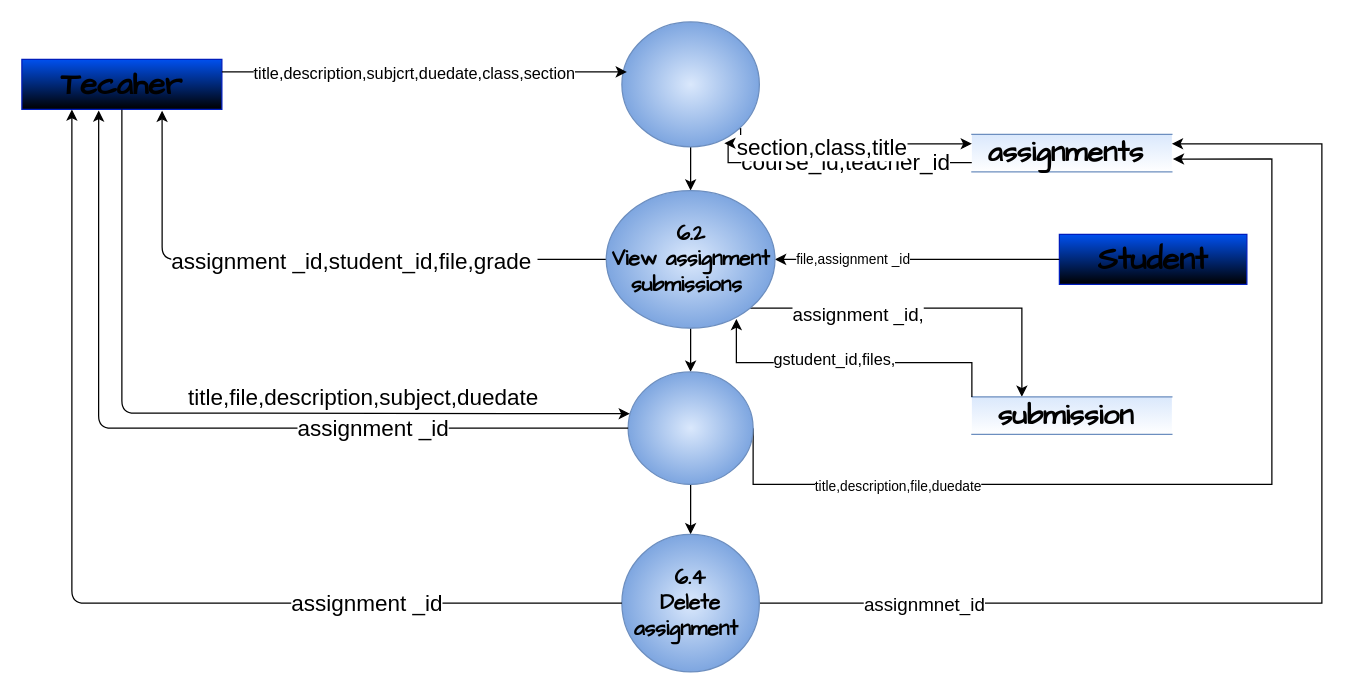
Image size: 1354x694. Some labels were removed from this diagram. Here are the shapes that lost their labels. From the top down, the centre of each, then its label:
the point at 690,84: 6.1 Create assignment
the point at 690,427: 6.3 Update
